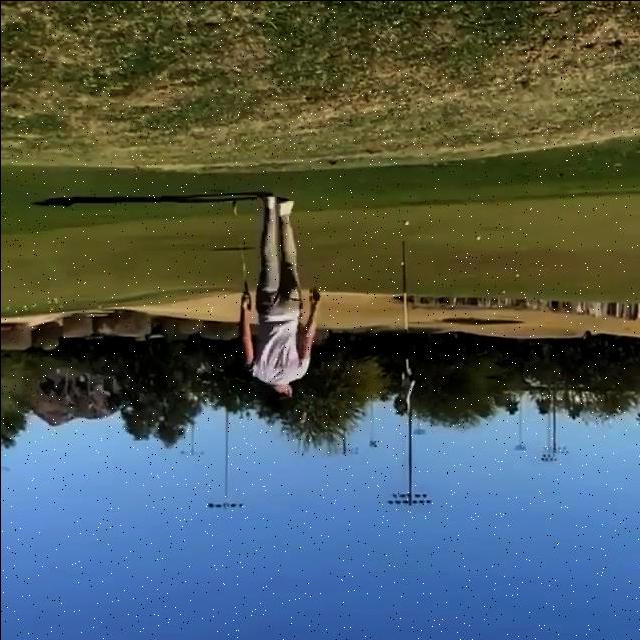golf ball: (403, 219, 408, 224), (475, 234, 480, 239)
golf club-handle: (231, 199, 250, 311)
golf club-head: (232, 199, 238, 215)
